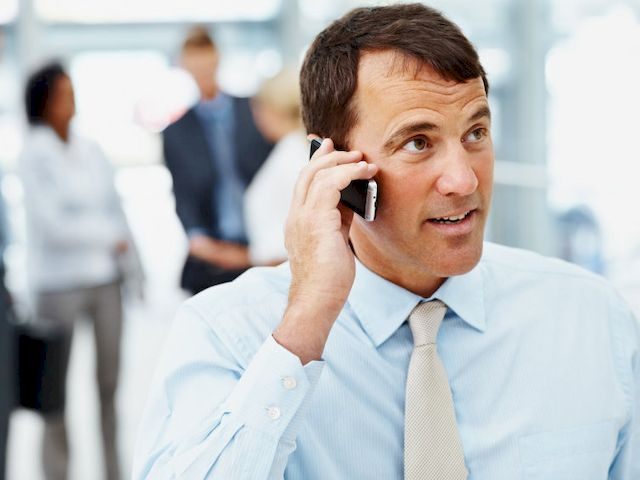phone: (305, 139, 383, 222)
talk: (279, 94, 496, 296)
